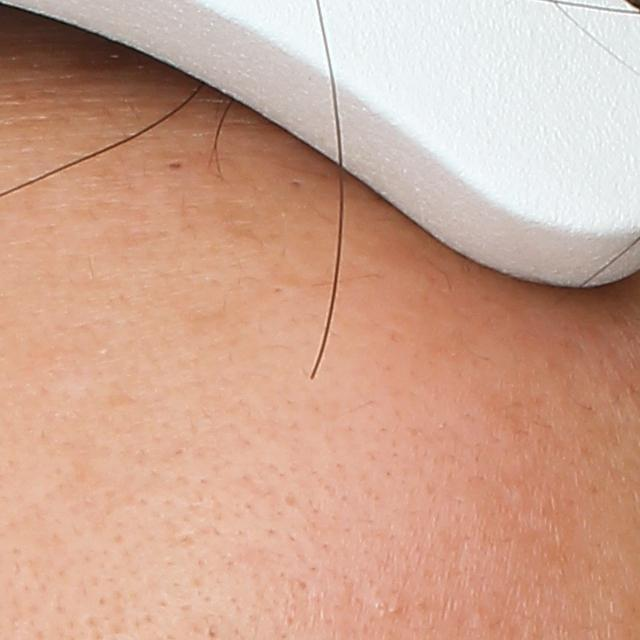comedo: (373, 595, 401, 621), (164, 157, 186, 172), (289, 176, 305, 189)
